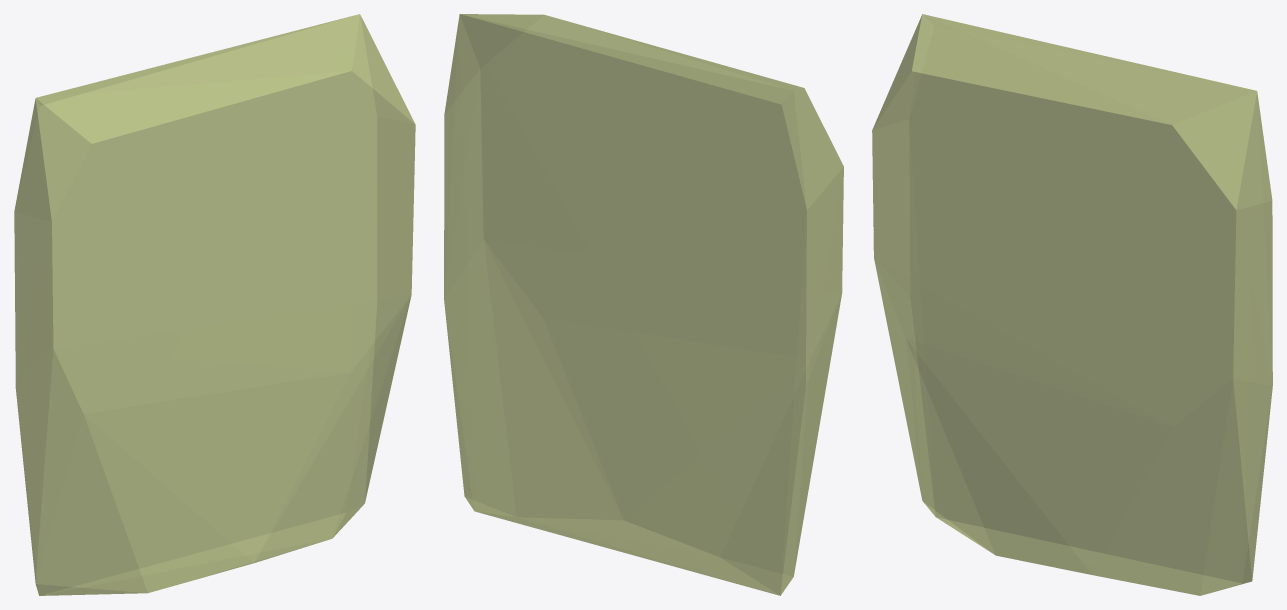
3 views of the same model, side by side, from view 1: azimuth 30°, elevation 25°; view 2: azimuth 150°, elevation 25°; view 3: azimuth 330°, elevation 25° (orthographic).
Parts seen in each view (by area): view 1: Shape_IndexedFaceSet.002_Shape_IndexedFaceSet.1753; view 2: Shape_IndexedFaceSet.002_Shape_IndexedFaceSet.1753; view 3: Shape_IndexedFaceSet.002_Shape_IndexedFaceSet.1753.
Part boxes in pixels (x1,y1,x2,y2): Shape_IndexedFaceSet.002_Shape_IndexedFaceSet.1753: (14,14,415,595); Shape_IndexedFaceSet.002_Shape_IndexedFaceSet.1753: (444,14,843,595); Shape_IndexedFaceSet.002_Shape_IndexedFaceSet.1753: (872,14,1272,595).
Size of the model in its own units: 0.1554 by 0.2055 by 0.0283.
